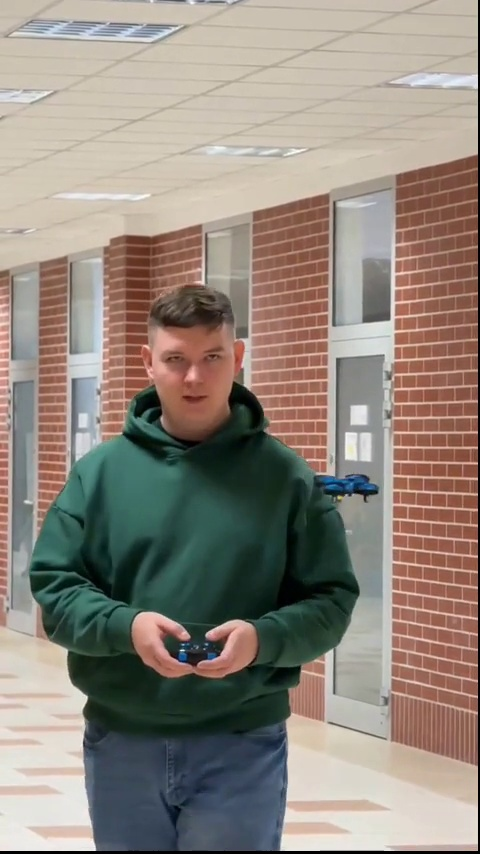drone: (318, 472, 375, 500)
no vest: (33, 280, 368, 815)
